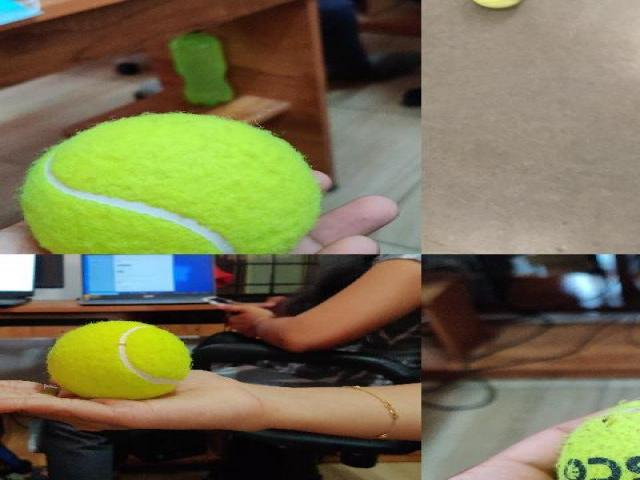tennis-ball: (21, 112, 320, 253), (48, 321, 188, 396), (467, 0, 525, 8)
